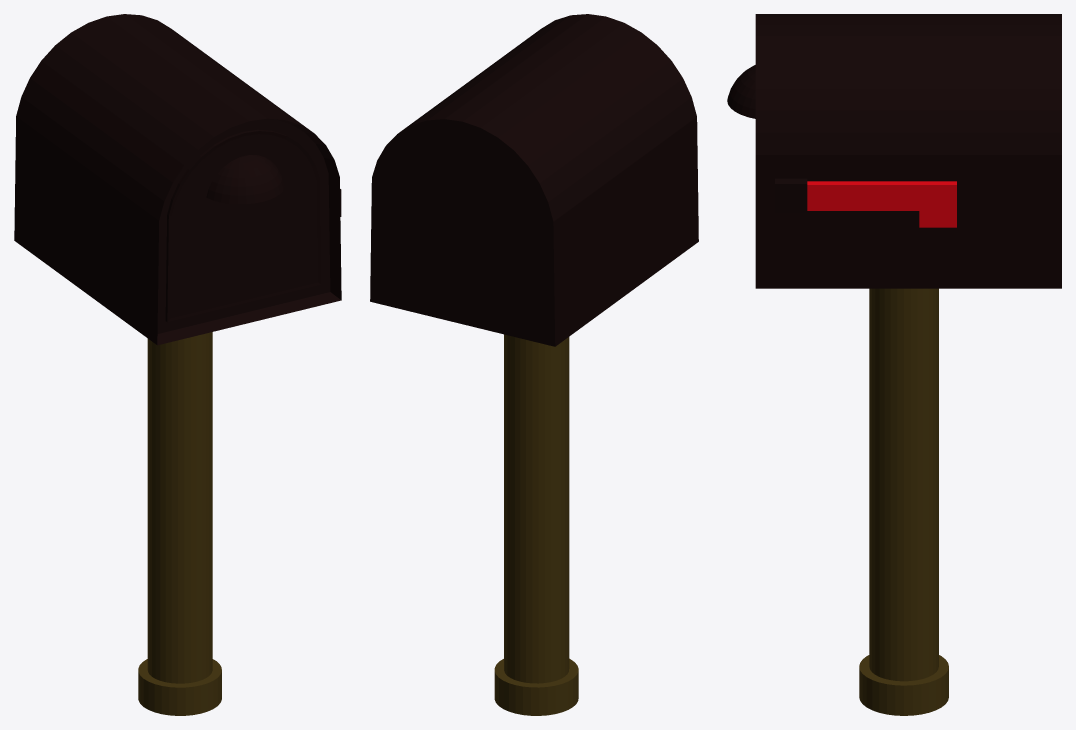
Rendered from mailbox.glb.
3 views of the same model, side by side, from view 1: azimuth 30°, elevation 25°; view 2: azimuth 150°, elevation 25°; view 3: azimuth 270°, elevation 25° (orthographic). The views are drawn at different scales.
Visible parts, largest first — view 1: Cylinder; view 2: Cylinder; view 3: Cylinder.
Part boxes in pixels (bbox=[...]): Cylinder: bbox=[14, 14, 341, 715]; Cylinder: bbox=[370, 14, 698, 715]; Cylinder: bbox=[727, 14, 1061, 715].
Size of the model in its own units: 0.457 by 1.42 by 0.6401.
